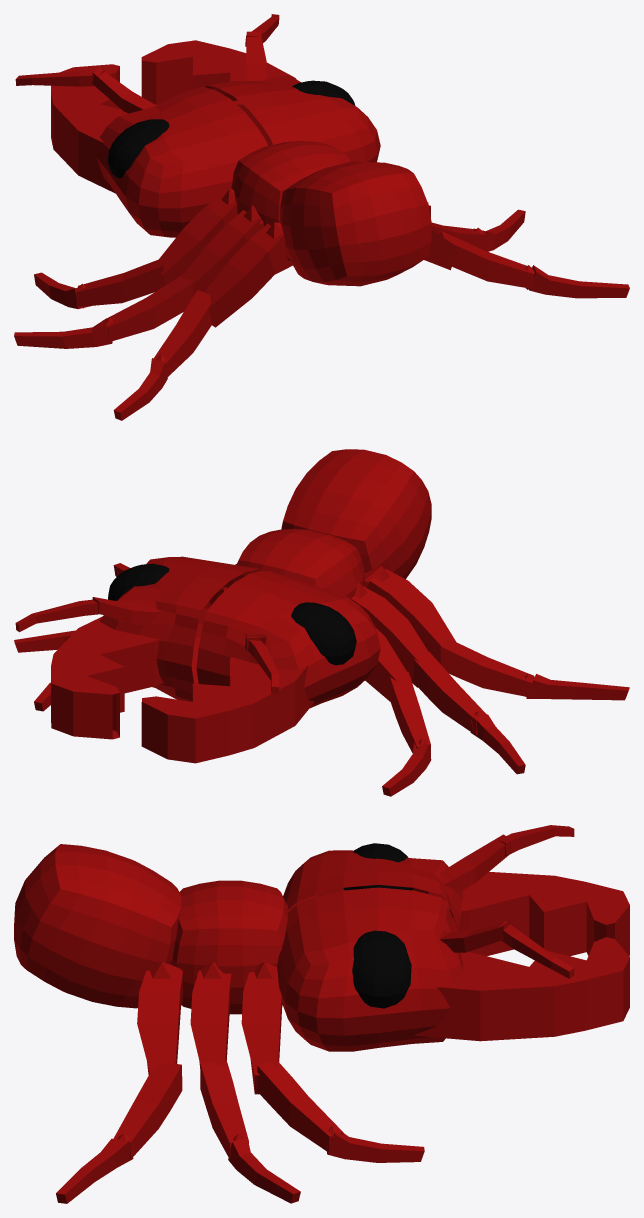
The model's file is Player.fbx.
3 views of the same model, one above another, from view 1: azimuth 30°, elevation 25°; view 2: azimuth 150°, elevation 25°; view 3: azimuth 270°, elevation 25° (orthographic). The views are drawn at different scales.
Parts seen in each view (by area): view 1: head.001; view 2: head.001; view 3: head.001.
Boxes of the visible parts, left/top/right/bottom form: head.001: left=14, top=14, right=629, bottom=420; head.001: left=14, top=449, right=629, bottom=796; head.001: left=14, top=825, right=629, bottom=1203.
Bounding box in the file's own units: 1.47 × 0.499 × 1.35.
